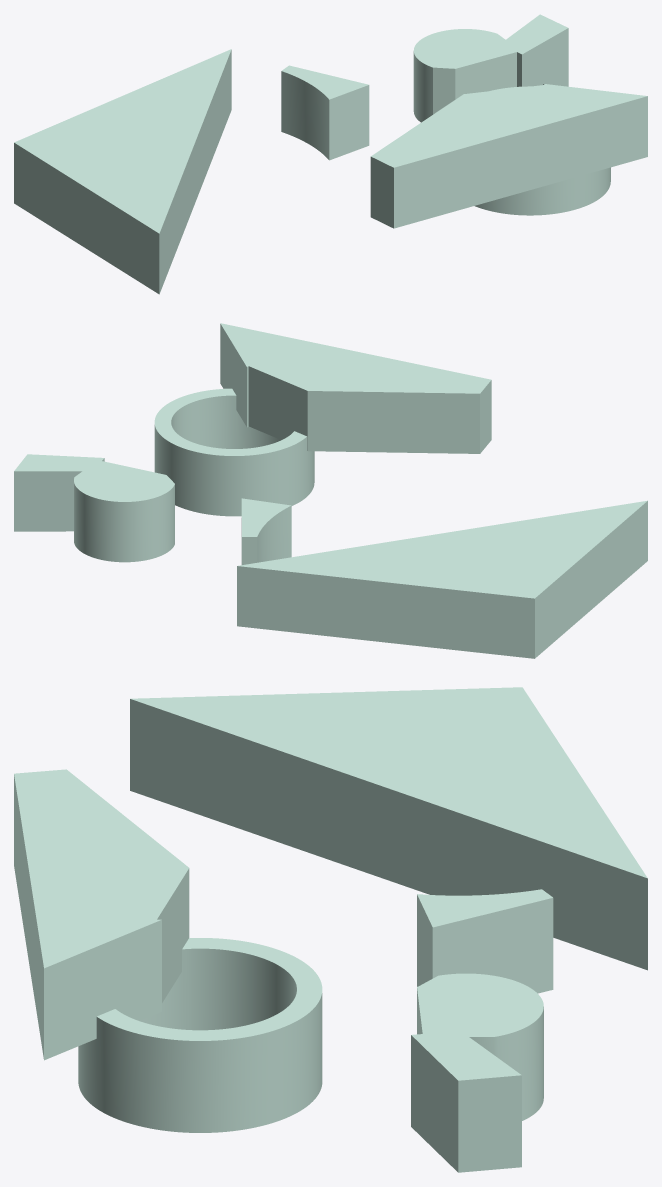
3 views of the same model, one above another, from view 1: azimuth 30°, elevation 25°; view 2: azimuth 150°, elevation 25°; view 3: azimuth 270°, elevation 25° (orthographic). The views are drawn at different scales.
Parts seen in each view (by area): view 1: Renderer Node; view 2: Renderer Node; view 3: Renderer Node.
Boxes of the visible parts, x1,y1,x2,y2 form: Renderer Node: (14,14,647,294); Renderer Node: (14,323,647,658); Renderer Node: (14,687,647,1172).
Size of the model in its own units: 2.08 by 0.3984 by 1.41.
